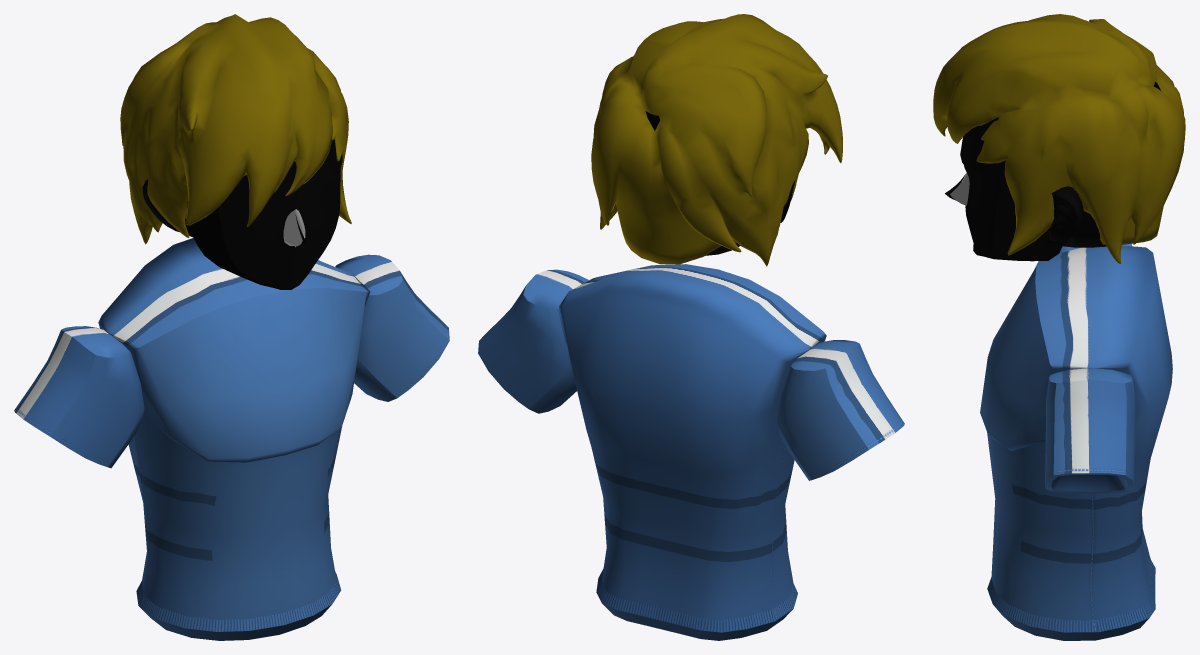
File: Player_Body.fbx
The picture shows the model from 3 angles, left to right: view 1: azimuth 30°, elevation 25°; view 2: azimuth 150°, elevation 25°; view 3: azimuth 270°, elevation 25°; orthographic projection.
Parts seen in each view (by area): view 1: Player_Body, Player_Hair, PlayerHead, Player_Arm_R, Player_Arm_L; view 2: Player_Body, Player_Hair, Player_Arm_R, Player_Arm_L; view 3: Player_Body, Player_Hair, Player_Arm_L, PlayerHead.
Boxes of the visible parts, bbox=[...] form: Player_Body: bbox=[98, 238, 370, 640]; Player_Hair: bbox=[120, 14, 351, 244]; PlayerHead: bbox=[142, 139, 342, 289]; Player_Arm_R: bbox=[14, 326, 144, 468]; Player_Arm_L: bbox=[335, 254, 449, 401]; Player_Body: bbox=[559, 264, 826, 640]; Player_Hair: bbox=[591, 14, 842, 266]; Player_Arm_R: bbox=[777, 340, 904, 480]; Player_Arm_L: bbox=[478, 269, 588, 413]; Player_Body: bbox=[980, 245, 1172, 640]; Player_Hair: bbox=[933, 14, 1185, 263]; Player_Arm_L: bbox=[1045, 368, 1135, 493]; PlayerHead: bbox=[945, 81, 1160, 261].
Size of the model in its own units: 89.71 by 120 by 47.6.
